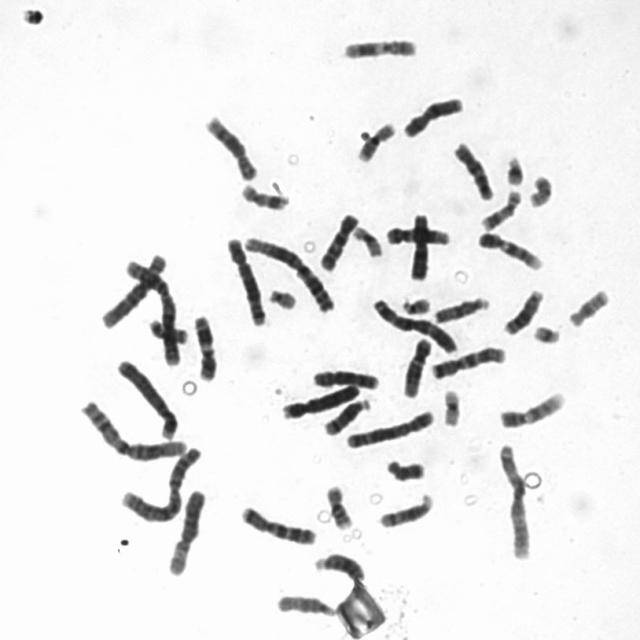A1: (238, 229, 338, 314), (76, 392, 191, 462)
A2: (115, 439, 204, 524), (119, 251, 182, 366)
A3: (366, 291, 461, 355), (493, 437, 535, 561)
B4: (111, 350, 181, 440), (275, 376, 363, 420)
B5: (220, 230, 269, 328), (341, 402, 437, 450)
C10: (447, 134, 497, 202), (314, 205, 362, 272)
C11: (336, 31, 421, 61), (187, 308, 220, 382)
C12: (397, 331, 433, 398), (380, 218, 453, 247)
C6: (96, 246, 170, 329), (161, 481, 209, 578)
C7: (234, 498, 320, 547), (426, 339, 509, 380)
C8: (198, 108, 260, 182), (307, 362, 382, 390)
C9: (472, 224, 546, 272), (494, 384, 568, 429)
D13: (498, 282, 546, 336), (309, 547, 369, 583)
D14: (373, 486, 436, 530), (318, 391, 374, 437)
D15: (271, 586, 339, 618), (428, 290, 492, 324)
E16: (351, 114, 398, 163), (319, 477, 356, 531)
E17: (475, 182, 524, 232), (235, 176, 292, 212)
E18: (561, 288, 612, 332), (380, 452, 428, 483)
F19: (348, 219, 385, 258), (436, 382, 464, 428)
F20: (141, 316, 190, 346), (523, 166, 555, 208)
G21: (499, 148, 527, 187), (528, 317, 563, 345)
G22: (262, 280, 300, 311), (396, 290, 433, 316)
X: (398, 88, 466, 138), (405, 206, 432, 281)
